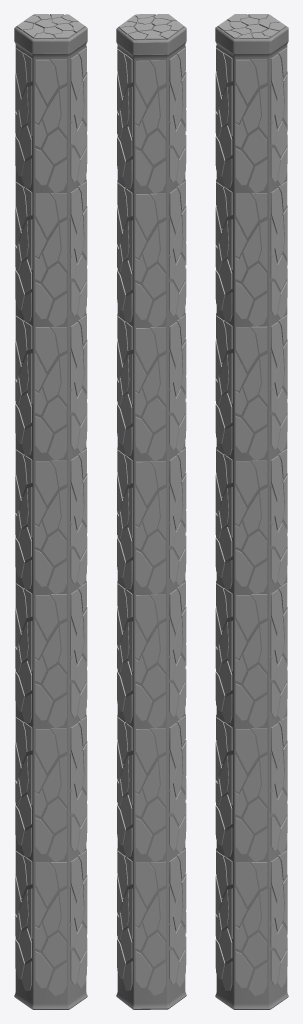
The model's file is Tile_Rock_Maj.fbx.
The picture shows the model from 3 angles, left to right: view 1: azimuth 90°, elevation 25°; view 2: azimuth 150°, elevation 25°; view 3: azimuth 270°, elevation 25°; orthographic projection.
Visible parts, largest first — view 1: Tile_Biome_Rock_LP; view 2: Tile_Biome_Rock_LP; view 3: Tile_Biome_Rock_LP.
Part boxes in pixels (bbox=[...]): Tile_Biome_Rock_LP: bbox=[14, 14, 87, 1009]; Tile_Biome_Rock_LP: bbox=[116, 14, 186, 1009]; Tile_Biome_Rock_LP: bbox=[215, 14, 288, 1009].
Size of the model in its own units: 170 by 2977 by 204.
1 material, 1 textured.
